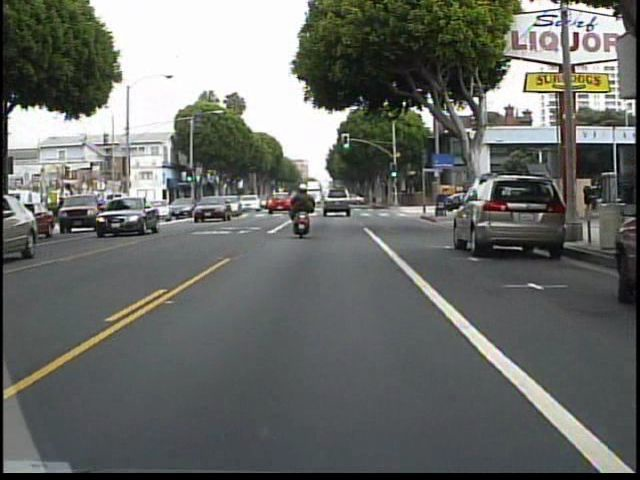person: (289, 183, 321, 238)
